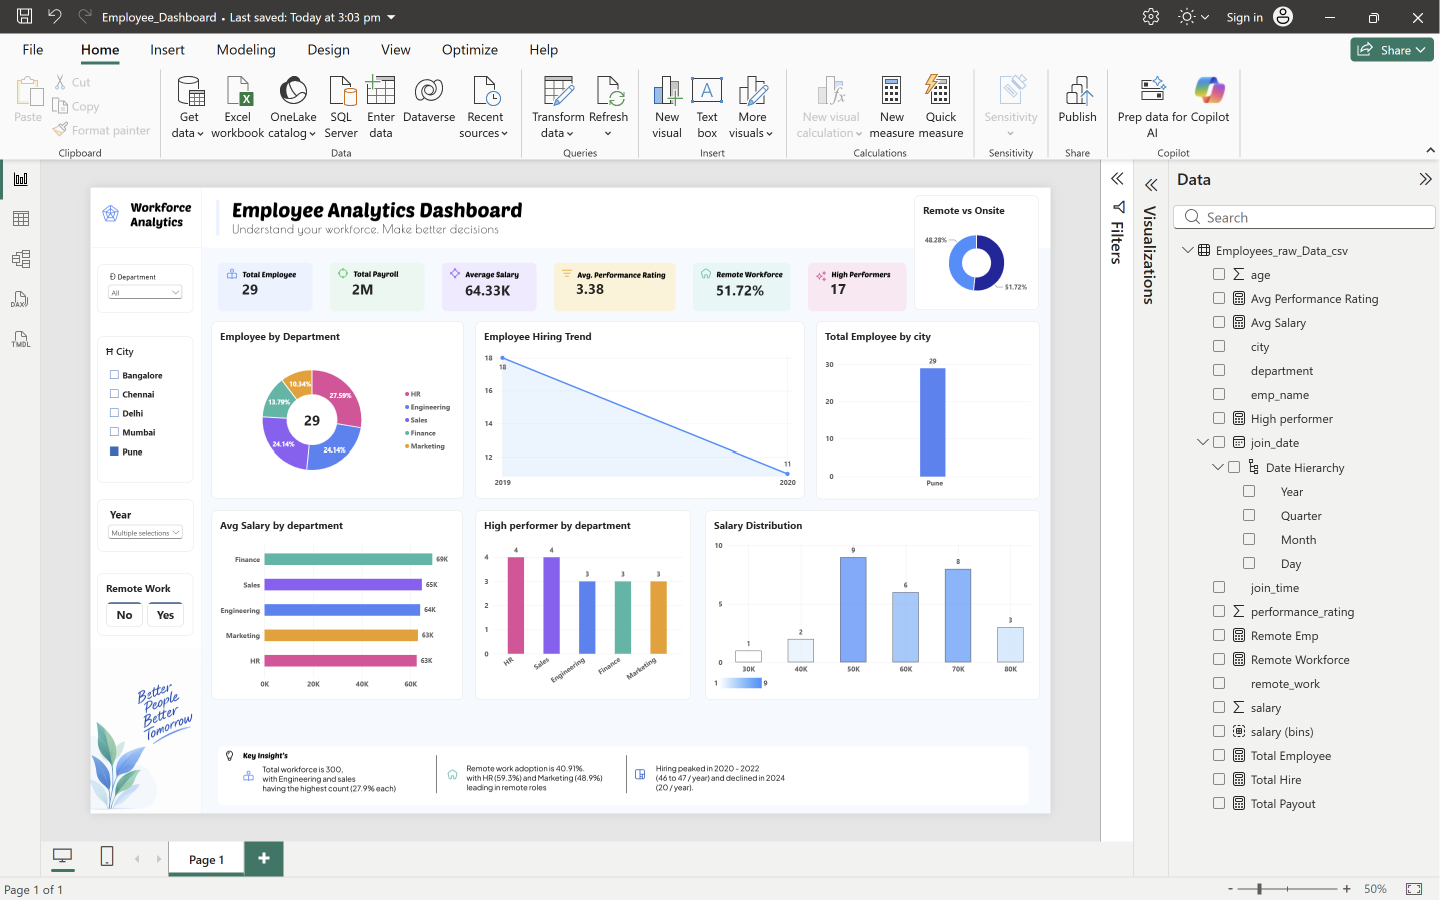

This screenshot's page, from the dashboard's own definition file:
{"tool":"powerbi","page":{"name":"Page 1","canvas":[1920,1250],"ordinal":0},"visuals":[{"type":"image","box":[0,0,1920,1250.7],"z":0},{"type":"cardVisual","fields":{"Data":["Employees_raw_Data_csv.Total Employee"]},"box":[298,174,84,54],"z":1000},{"type":"cardVisual","fields":{"Data":["Employees_raw_Data_csv.Total Payout"]},"box":[518,166,132,70],"z":2000},{"type":"cardVisual","fields":{"Data":["Employees_raw_Data_csv.Avg Salary"]},"box":[744,160,140,86],"z":3000},{"type":"cardVisual","fields":{"Data":["Employees_raw_Data_csv.Avg Performance Rating"]},"box":[966.9,156.9,153.8,88.8],"z":4000},{"type":"cardVisual","fields":{"Data":["Employees_raw_Data_csv.Remote Workforce"]},"box":[1246.7,150,155,106.7],"z":5000},{"type":"cardVisual","fields":{"Data":["Employees_raw_Data_csv.High performer"]},"box":[1473.6,164.5,142.7,73.6],"z":6000},{"type":"donutChart","title":"Employee by Department","fields":{"Category":["Employees_raw_Data_csv.department"],"Y":["Employees_raw_Data_csv.Total Employee"]},"box":[242,268,504,352],"z":7000},{"type":"areaChart","title":"Employee Hiring Trend","fields":{"Category":["Employees_raw_Data_csv.join_date.Variation.Date Hierarchy.Year"],"Y":["Employees_raw_Data_csv.Total Hire"]},"box":[770,268,658,352],"z":8000},{"type":"columnChart","fields":{"Category":["Employees_raw_Data_csv.city"],"Y":["Employees_raw_Data_csv.Total Employee"]},"box":[1451,267.1,445.8,353.3],"z":9000},{"type":"clusteredBarChart","fields":{"Category":["Employees_raw_Data_csv.department"],"Y":["Employees_raw_Data_csv.Avg Salary"]},"box":[241.8,643.5,502.6,378.5],"z":10000},{"type":"columnChart","fields":{"Category":["Employees_raw_Data_csv.department"],"Y":["Employees_raw_Data_csv.High performer"]},"box":[769.7,643.5,431.1,378.5],"z":11000},{"type":"columnChart","title":"Salary Distribution","fields":{"Category":["Employees_raw_Data_csv.salary (bins)"],"Y":["Employees_raw_Data_csv.Total Employee"]},"box":[1230.2,643.5,668.7,378.5],"z":12000},{"type":"pieChart","title":"Remote vs Onsite","fields":{"Category":["Employees_raw_Data_csv.remote_work"],"Y":["Employees_raw_Data_csv.Total Employee"]},"box":[1648.7,16.8,248.1,229.2],"z":12001},{"type":"slicer","fields":{"Values":["Employees_raw_Data_csv.department"]},"box":[14,154,191.4,96.7],"z":12002},{"type":"advancedSlicerVisual","title":"Remote Work","fields":{"Values":["Employees_raw_Data_csv.remote_work"]},"box":[14,770,191.4,124.1],"z":12003},{"type":"slicer","title":"Ħ City","fields":{"Values":["Employees_raw_Data_csv.city"]},"box":[14,298,191.4,290.2],"z":12004},{"type":"slicer","fields":{"Values":["Employees_raw_Data_csv.join_date.Variation.Date Hierarchy.Year"]},"box":[14,622,192,104],"z":12005}]}

Visuals, with their boxes on the page's 1920x1250 design canvas (x1, y1, x2, y2). These are canvas units, not pixel positions in the 1440x900 screenshot, which may show the page scaled, cropped or inside an application window:
image: (0, 0, 1920, 1251)
cardVisual - Employees_raw_Data_csv.Total Employee: (298, 174, 382, 228)
cardVisual - Employees_raw_Data_csv.Total Payout: (518, 166, 650, 236)
cardVisual - Employees_raw_Data_csv.Avg Salary: (744, 160, 884, 246)
cardVisual - Employees_raw_Data_csv.Avg Performance Rating: (967, 157, 1121, 246)
cardVisual - Employees_raw_Data_csv.Remote Workforce: (1247, 150, 1402, 257)
cardVisual - Employees_raw_Data_csv.High performer: (1474, 164, 1616, 238)
"Employee by Department" donutChart: (242, 268, 746, 620)
"Employee Hiring Trend" areaChart: (770, 268, 1428, 620)
columnChart - Employees_raw_Data_csv.city x Employees_raw_Data_csv.Total Employee: (1451, 267, 1897, 620)
clusteredBarChart - Employees_raw_Data_csv.department x Employees_raw_Data_csv.Avg Salary: (242, 644, 744, 1022)
columnChart - Employees_raw_Data_csv.department x Employees_raw_Data_csv.High performer: (770, 644, 1201, 1022)
"Salary Distribution" columnChart: (1230, 644, 1899, 1022)
"Remote vs Onsite" pieChart: (1649, 17, 1897, 246)
slicer - Employees_raw_Data_csv.department: (14, 154, 205, 251)
"Remote Work" advancedSlicerVisual: (14, 770, 205, 894)
"Ħ City" slicer: (14, 298, 205, 588)
slicer - Employees_raw_Data_csv.join_date.Variation.Date Hierarchy.Year: (14, 622, 206, 726)
